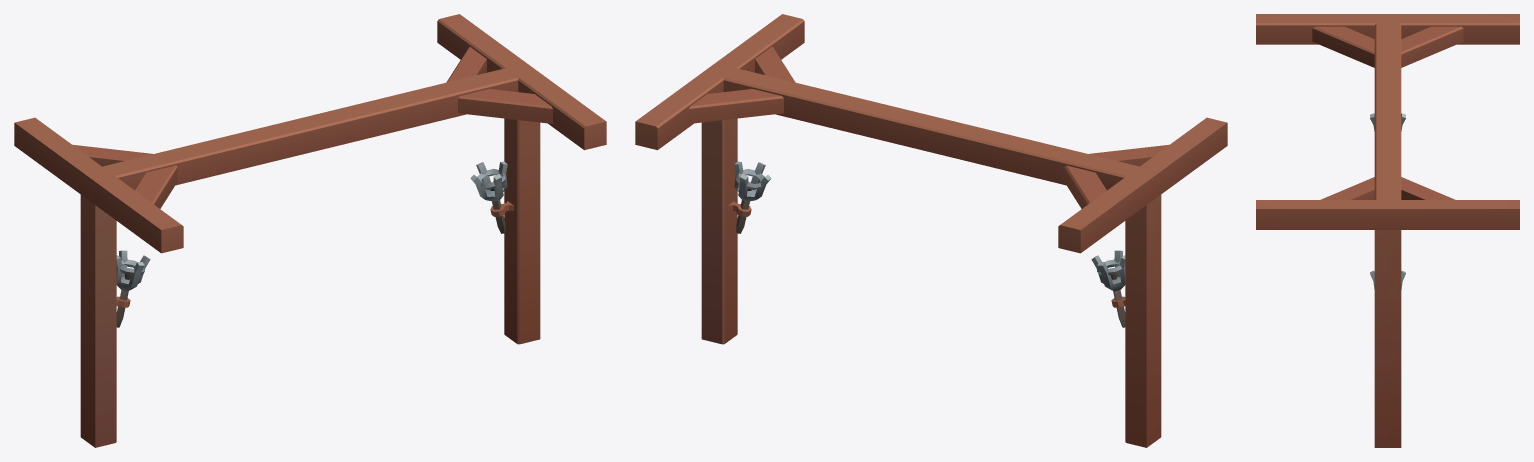
The model's file is scaffold_pillars_connected_torch.glb.
3 views of the same model, side by side, from view 1: azimuth 30°, elevation 25°; view 2: azimuth 150°, elevation 25°; view 3: azimuth 270°, elevation 25° (orthographic). The views are drawn at different scales.
Parts seen in each view (by area): view 1: scaffold_pillars_connected_torch; view 2: scaffold_pillars_connected_torch; view 3: scaffold_pillars_connected_torch.
Boxes of the visible parts, left/top/right/bottom form: scaffold_pillars_connected_torch: left=14, top=14, right=606, bottom=447; scaffold_pillars_connected_torch: left=635, top=14, right=1227, bottom=447; scaffold_pillars_connected_torch: left=1256, top=14, right=1519, bottom=447.
Bounding box in the file's own units: 7 × 4 × 4.
Materials: 1 (1 with a texture image).
